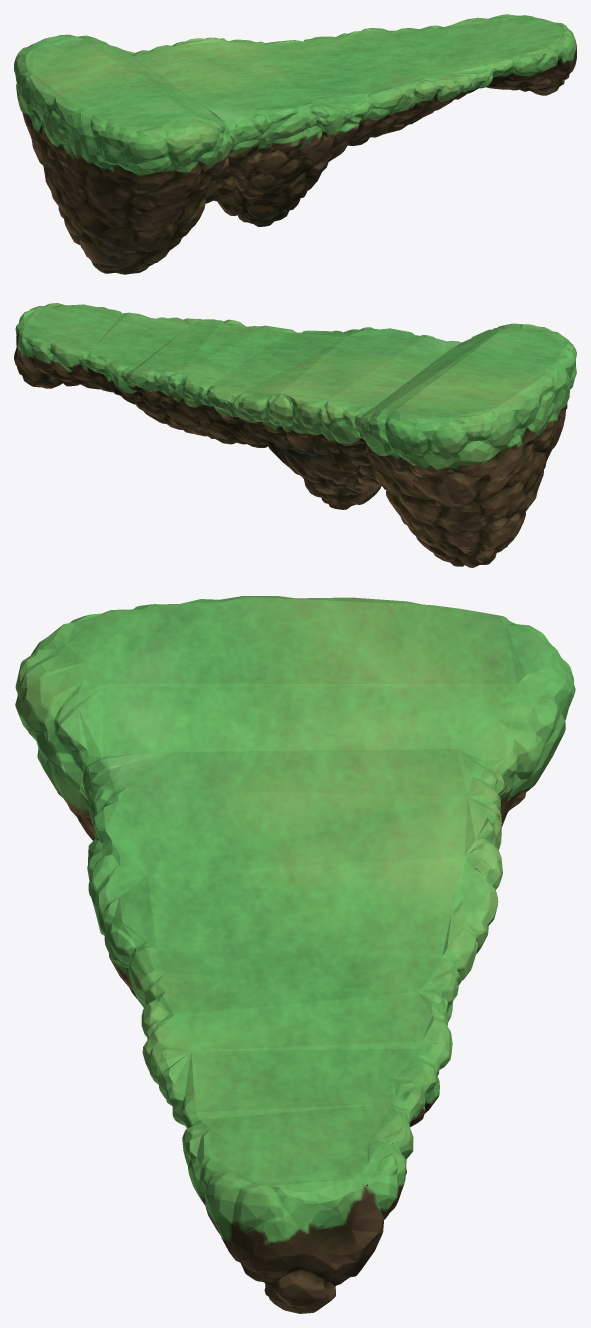
Rendered from FloatingIsland6.2.fbx.
3 renders of one model, top to bottom at view 1: azimuth 30°, elevation 25°; view 2: azimuth 150°, elevation 25°; view 3: azimuth 270°, elevation 25°, orthographic. The views are drawn at different scales.
Visible parts, largest first — view 1: island6Merged.002; view 2: island6Merged.002; view 3: island6Merged.002.
Part boxes in pixels (x1,y1,x2,y2): island6Merged.002: (14, 14, 576, 274); island6Merged.002: (14, 303, 576, 567); island6Merged.002: (15, 596, 575, 1313).
Size of the model in its own units: 5214 by 1849 by 2419.
1 material, 1 textured.
